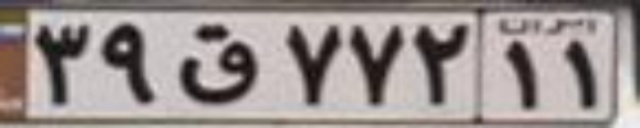1: (558, 38, 600, 107), (505, 40, 537, 109)
2: (414, 21, 472, 106)
3: (36, 23, 90, 103)
7: (284, 23, 342, 105), (348, 22, 404, 105)
9: (100, 22, 155, 104)
ghaf: (176, 23, 259, 102)
